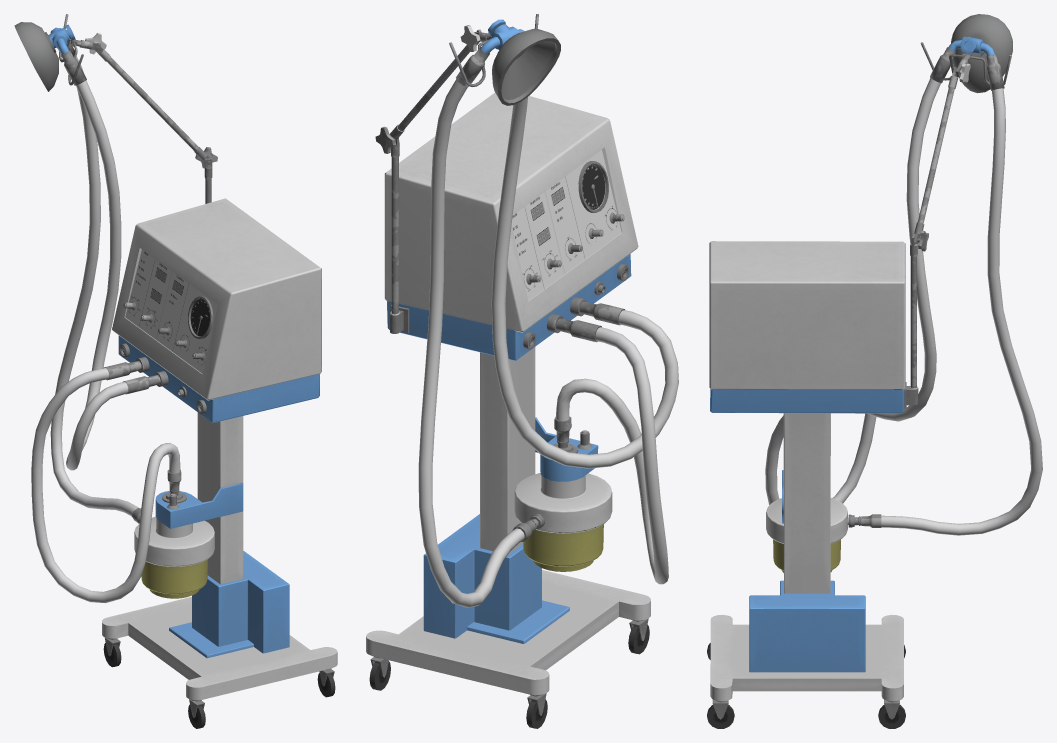
File: Vantilator.fbx
The picture shows the model from 3 angles, left to right: view 1: azimuth 30°, elevation 25°; view 2: azimuth 150°, elevation 25°; view 3: azimuth 270°, elevation 25°; orthographic projection. The views are drawn at different scales.
Parts seen in each view (by area): view 1: Vantilator; view 2: Vantilator; view 3: Vantilator.
Part boxes in pixels (x1=…): Vantilator: x1=14, y1=14, x2=337, y2=728; Vantilator: x1=366, y1=14, x2=678, y2=728; Vantilator: x1=707, y1=14, x2=1042, y2=728.
Size of the model in its own units: 69.4 by 177 by 86.09.
